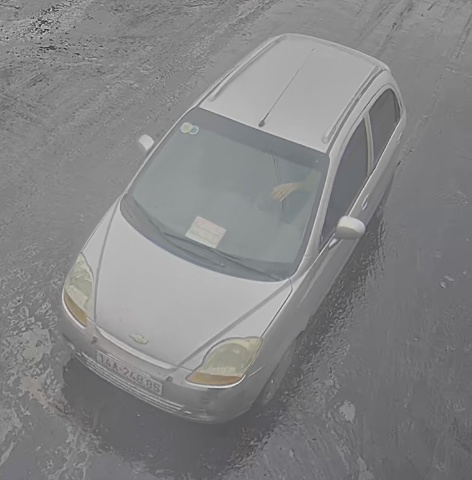vehicle plate: (97, 347, 163, 397)
